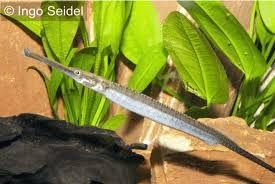Long-Snouted Pipefish: (24, 47, 275, 174)
